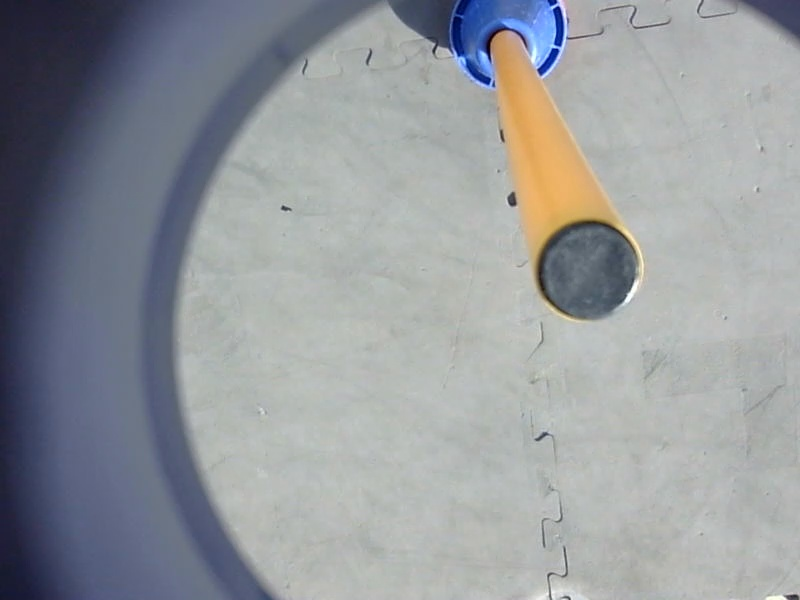tip: (524, 213, 653, 332)
